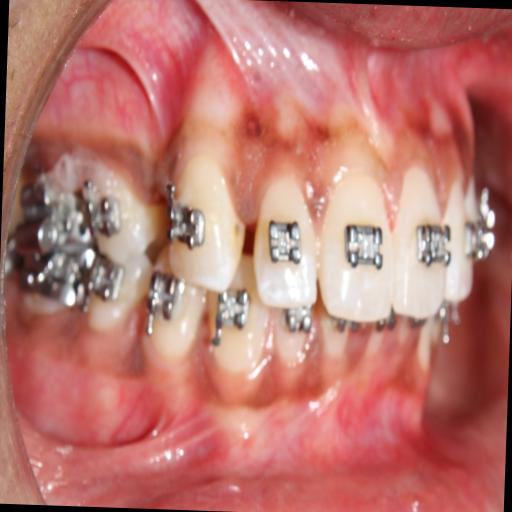correct_brace: (338, 214, 388, 280), (263, 211, 306, 270), (160, 196, 206, 246)
incorrect_brace: (251, 167, 320, 313)
